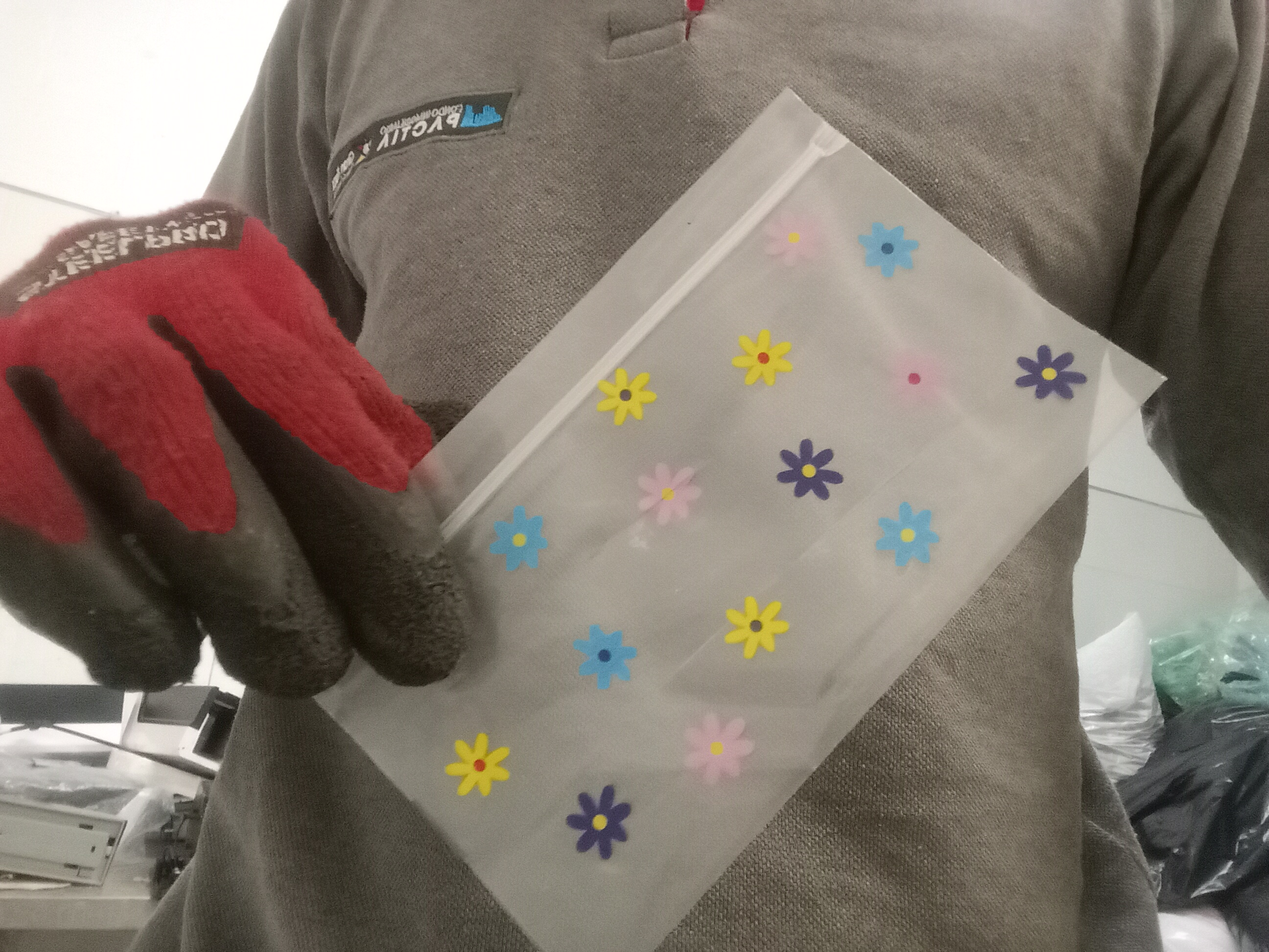Ordinario: (309, 89, 1172, 952)
